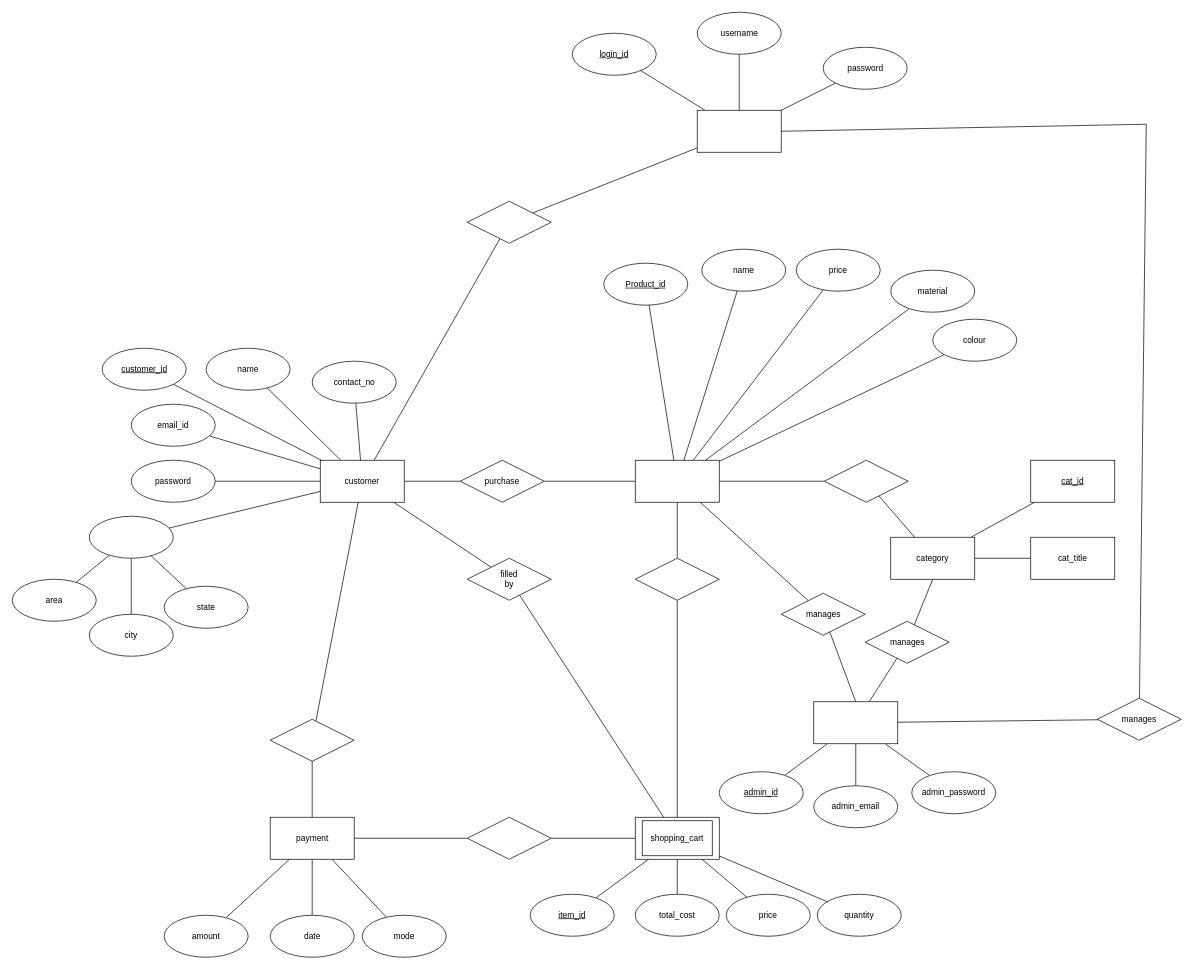
Image size: 1194x970. Some labels were removed from this diagram. Here are the shapes that lost their labels. From the top down, the centre of each, then its label:
At point (738, 131): "login".
At point (509, 222): "has".
At point (677, 481): "furniture".
At point (866, 481): "have".
At point (131, 537): "address".
At point (677, 579): "contains".
At point (312, 740): "does".
At point (855, 722): "admin".
At point (509, 838): "done for".
